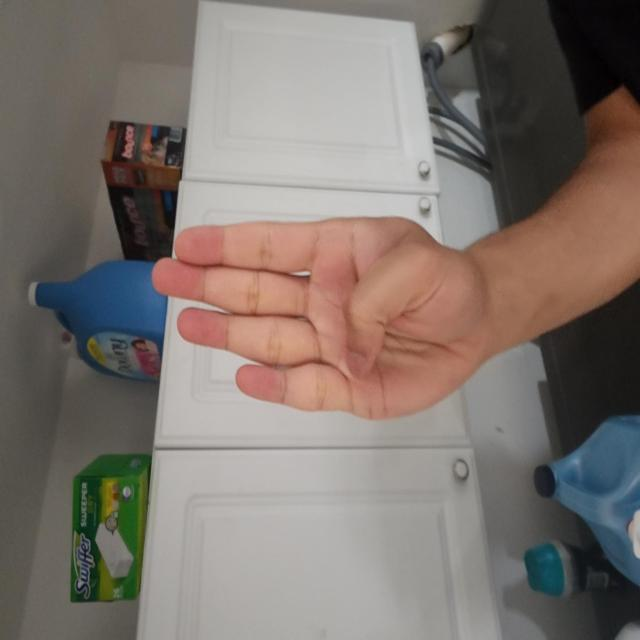B: (162, 194, 321, 640)
